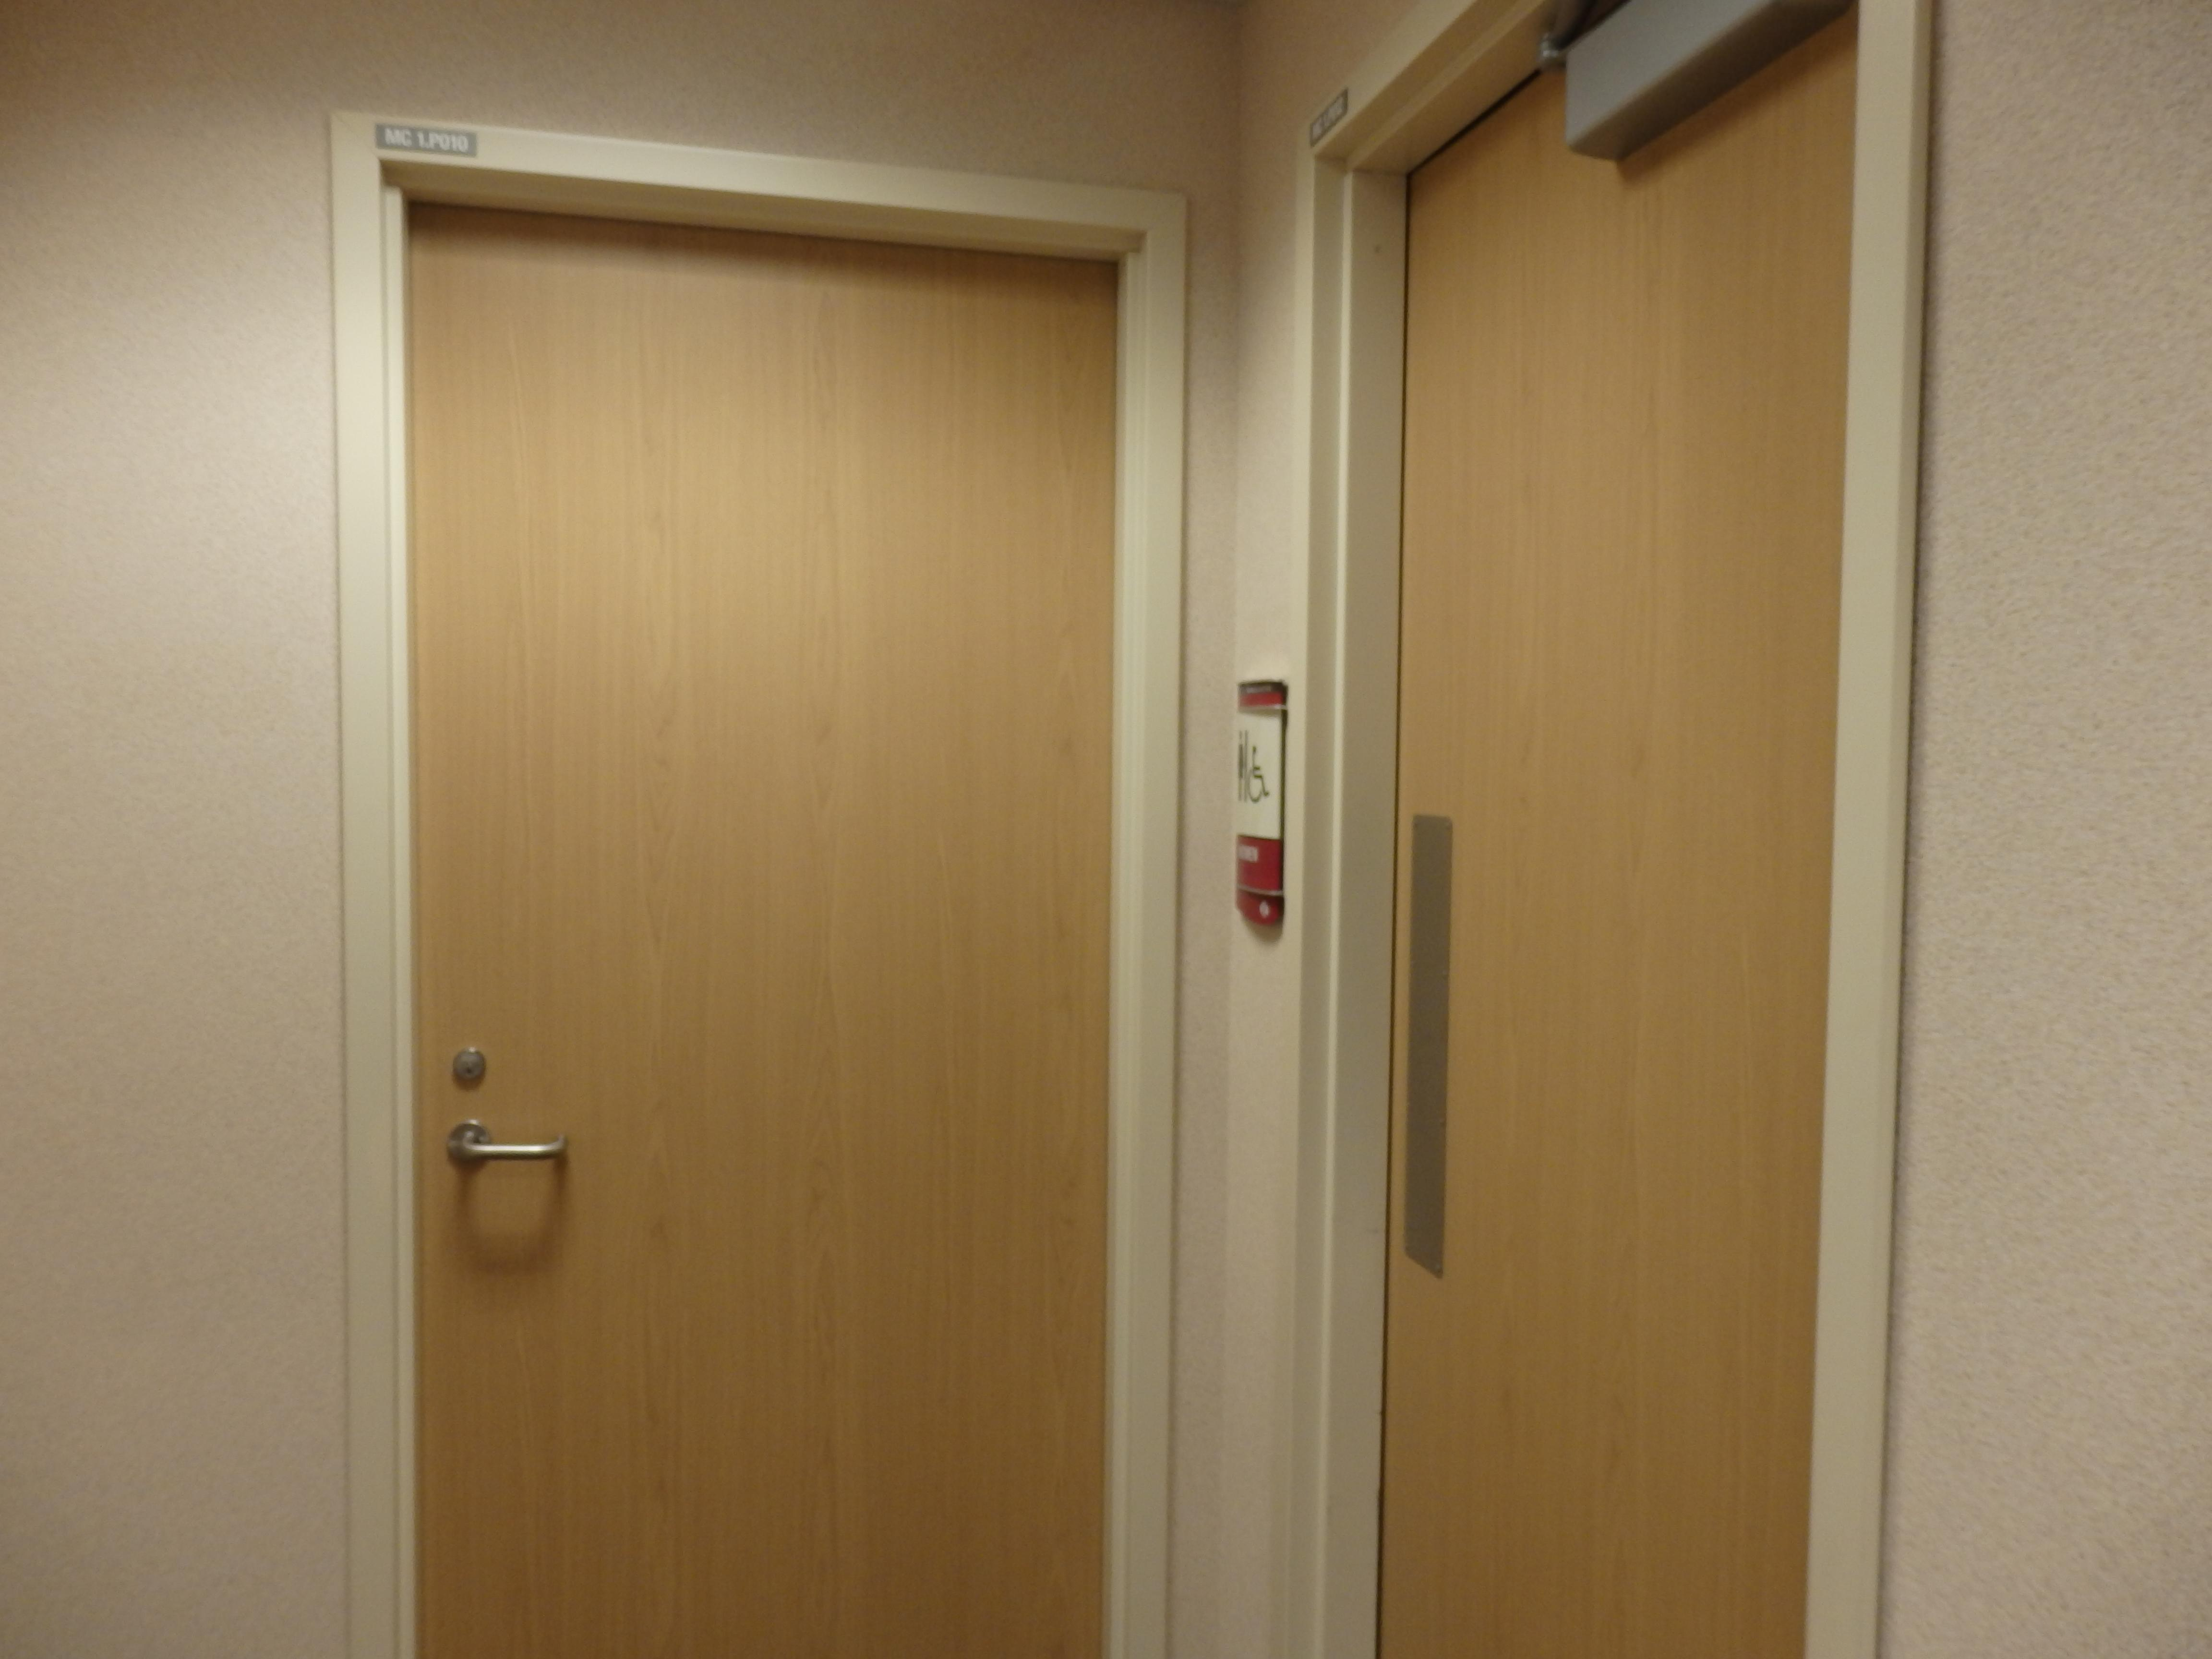door: (371, 145, 1127, 1654), (1345, 9, 1871, 1659)
